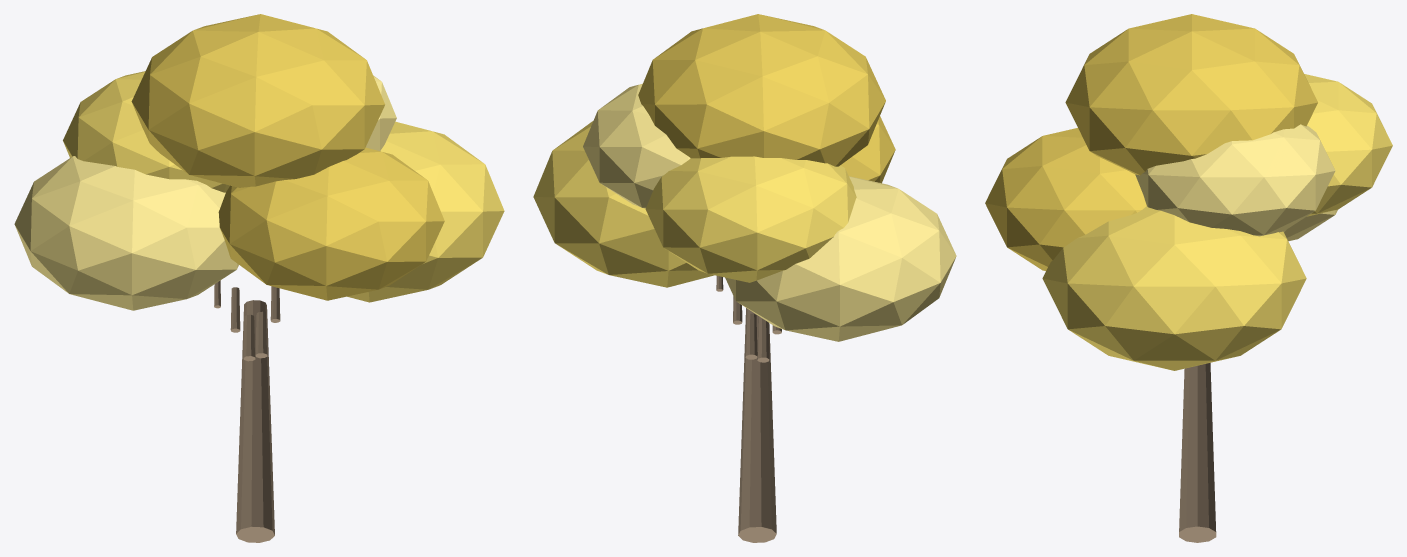
Rendered from ipe_amarelo.glb.
3 views of the same model, side by side, from view 1: azimuth 30°, elevation 25°; view 2: azimuth 150°, elevation 25°; view 3: azimuth 270°, elevation 25° (orthographic).
Parts seen in each view (by area): view 1: ipe_amarelo; view 2: ipe_amarelo; view 3: ipe_amarelo.
Boxes of the visible parts, bbox=[...] form: ipe_amarelo: bbox=[14, 14, 504, 542]; ipe_amarelo: bbox=[533, 14, 956, 542]; ipe_amarelo: bbox=[985, 14, 1392, 542].
Bounding box in the file's own units: 4.25 × 4.83 × 3.55.
